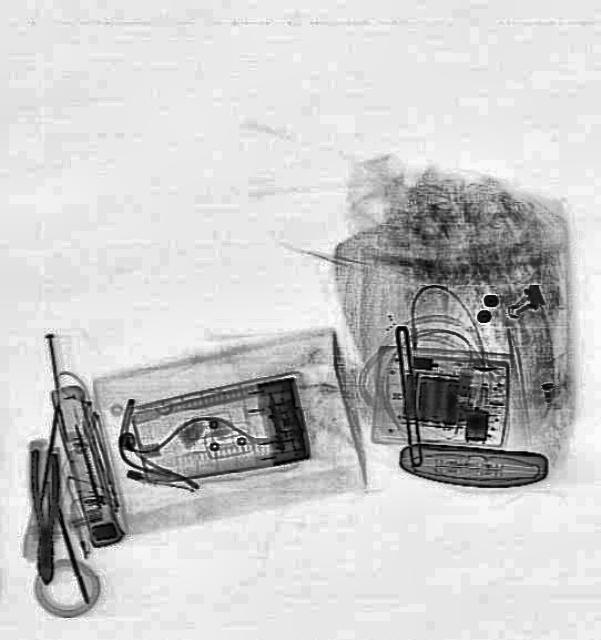Pliers: (27, 450, 59, 584)
